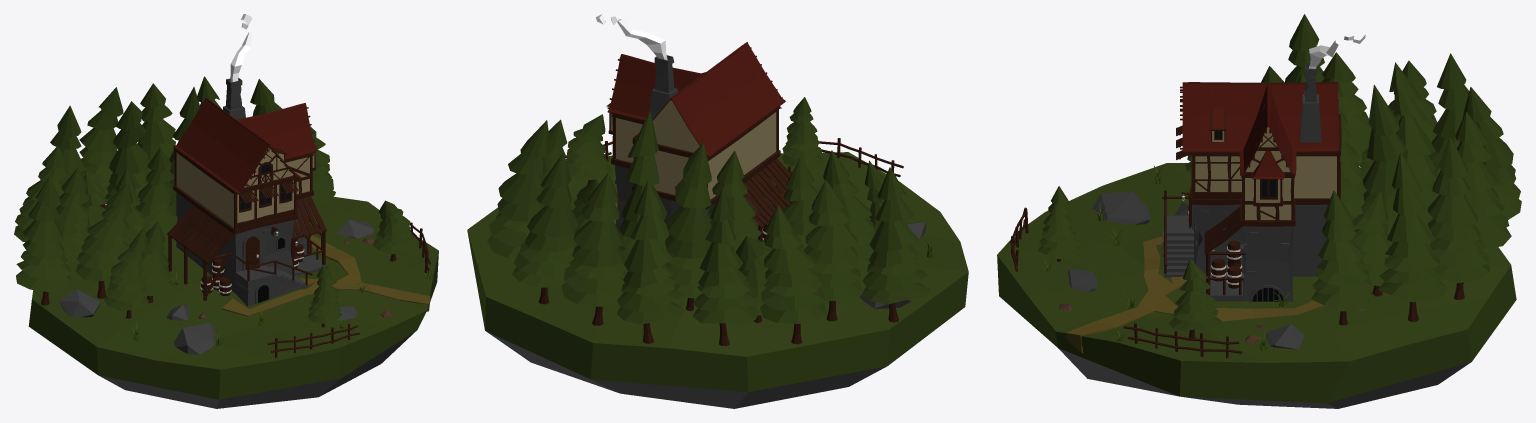
Rendered from island.obj.
The picture shows the model from 3 angles, left to right: view 1: azimuth 30°, elevation 25°; view 2: azimuth 150°, elevation 25°; view 3: azimuth 270°, elevation 25°; orthographic projection. The views are drawn at different scales.
Visible parts, largest first — view 1: Ground_Cylinder.030, Cube.005_Cube.006, Cube.004_Cube.005, Cylinder.042_Cylinder.061, Cylinder.037_Cylinder.056, Cube_Cube.001, Path_Plane.002, Cylinder.029_Cylinder.053, Cylinder.033_Cylinder.051, Cylinder.041_Cylinder.060, Cylinder.038_Cylinder.057, Cylinder.031_Cylinder.049 (+25 smaller); view 2: Ground_Cylinder.030, Cube.005_Cube.006, Cylinder.035_Cylinder.054, Cylinder.029_Cylinder.053, Cylinder.042_Cylinder.061, Cylinder.030_Cylinder.048, Cylinder.039_Cylinder.058, Cylinder.034_Cylinder.052, Cylinder.033_Cylinder.051, Cylinder.038_Cylinder.057, Cube.004_Cube.005, Cylinder.027_Cylinder.045 (+16 smaller); view 3: Ground_Cylinder.030, Cube.005_Cube.006, Cube_Cube.001, Cylinder.027_Cylinder.045, Cylinder.030_Cylinder.048, Cube.004_Cube.005, Cylinder.025_Cylinder.042, Path_Plane.002, Cylinder.035_Cylinder.054, Cylinder.028_Cylinder.046, Cylinder.033_Cylinder.051, Cylinder.029_Cylinder.053 (+18 smaller).
Part boxes in pixels (x1,y1,x2,y2): Ground_Cylinder.030: [28, 196, 438, 408]; Cube.005_Cube.006: [173, 97, 316, 194]; Cube.004_Cube.005: [173, 153, 313, 234]; Cylinder.042_Cylinder.061: [16, 176, 72, 305]; Cylinder.037_Cylinder.056: [76, 183, 132, 298]; Cube_Cube.001: [176, 192, 310, 293]; Path_Plane.002: [222, 235, 430, 316]; Cylinder.029_Cylinder.053: [79, 87, 123, 208]; Cylinder.033_Cylinder.051: [104, 101, 149, 209]; Cylinder.041_Cylinder.060: [104, 227, 148, 318]; Cylinder.038_Cylinder.057: [54, 168, 89, 264]; Cylinder.031_Cylinder.049: [135, 147, 177, 244]; Ground_Cylinder.030: [467, 152, 968, 408]; Cube.005_Cube.006: [607, 42, 785, 160]; Cylinder.035_Cylinder.054: [562, 172, 626, 325]; Cylinder.029_Cylinder.053: [616, 180, 684, 343]; Cylinder.042_Cylinder.061: [862, 167, 929, 322]; Cylinder.030_Cylinder.048: [512, 152, 578, 304]; Cylinder.039_Cylinder.058: [760, 205, 827, 344]; Cylinder.034_Cylinder.052: [692, 188, 758, 345]; Cylinder.033_Cylinder.051: [664, 143, 711, 311]; Cylinder.038_Cylinder.057: [804, 180, 862, 321]; Cube.004_Cube.005: [611, 112, 780, 209]; Cylinder.027_Cylinder.045: [487, 120, 550, 258]; Ground_Cylinder.030: [997, 163, 1516, 408]; Cube.005_Cube.006: [1182, 82, 1341, 177]; Cube_Cube.001: [1194, 204, 1327, 301]; Cylinder.027_Cylinder.045: [1378, 152, 1447, 321]; Cylinder.030_Cylinder.048: [1427, 136, 1489, 299]; Cube.004_Cube.005: [1191, 156, 1340, 226]; Cylinder.025_Cylinder.042: [1311, 190, 1375, 325]; Path_Plane.002: [1065, 236, 1324, 353]; Cylinder.035_Cylinder.054: [1455, 112, 1511, 249]; Cylinder.028_Cylinder.046: [1358, 84, 1422, 241]; Cylinder.033_Cylinder.051: [1389, 62, 1439, 218]; Cylinder.029_Cylinder.053: [1462, 87, 1521, 219].
Size of the model in its own units: 10.49 by 7.61 by 10.6.
